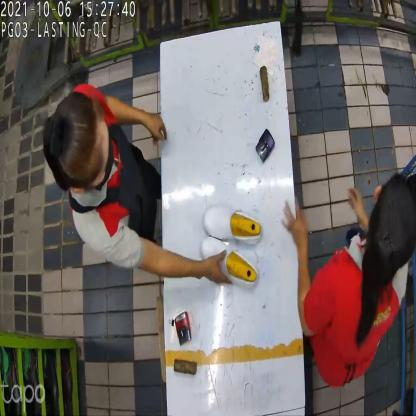shoes: (202, 210, 262, 290)
stamp: (172, 314, 196, 345), (256, 129, 275, 163)
